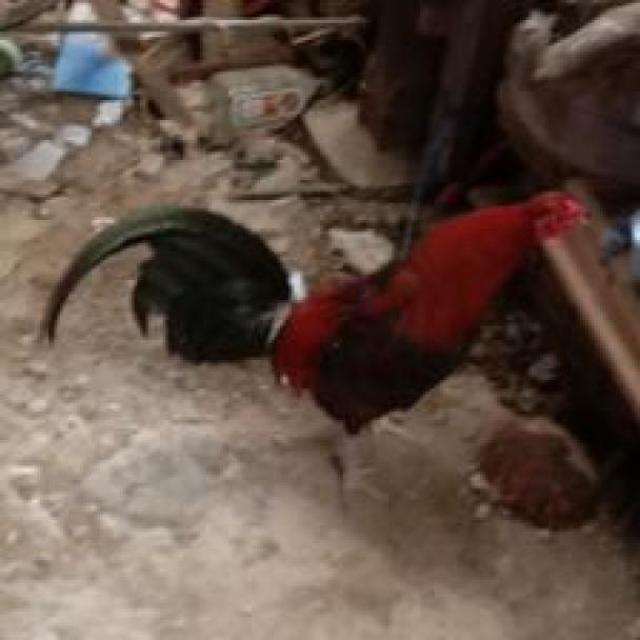Chicken: (31, 167, 633, 534)
